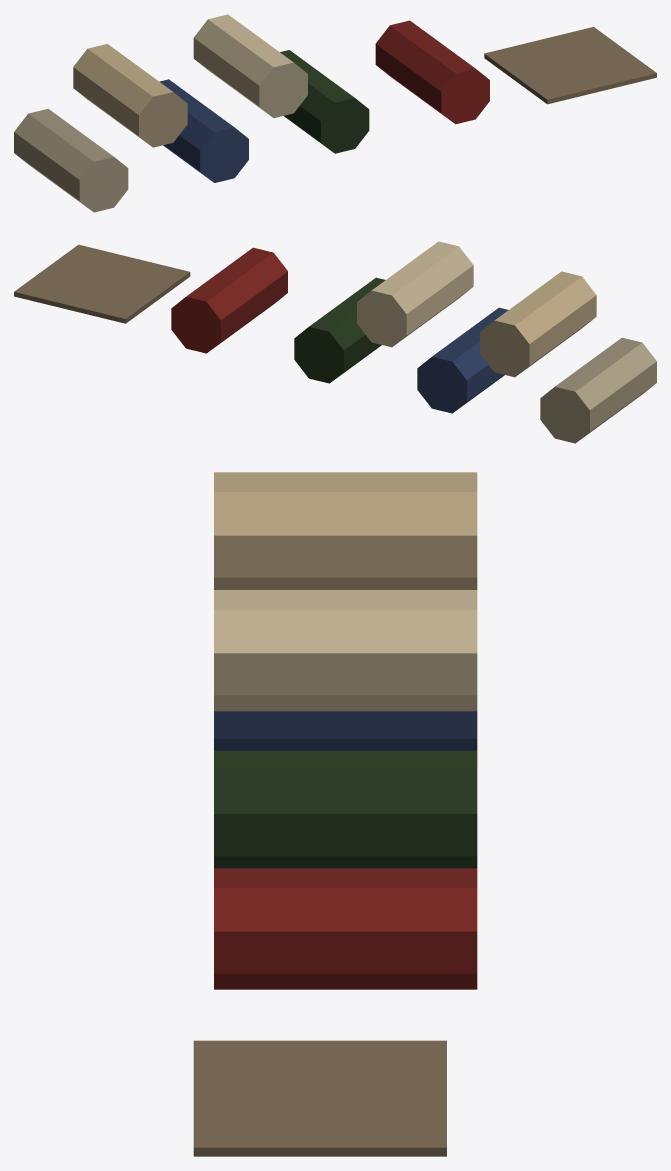
Rendered from walk_prop_goods_cloth.glb.
The picture shows the model from 3 angles, top to bottom: view 1: azimuth 30°, elevation 25°; view 2: azimuth 150°, elevation 25°; view 3: azimuth 270°, elevation 25°; orthographic projection. The views are drawn at different scales.
Parts seen in each view (by area): view 1: walk_prop_goods_cloth; view 2: walk_prop_goods_cloth; view 3: walk_prop_goods_cloth.
Part boxes in pixels (<box>): walk_prop_goods_cloth: <box>14,14,656,212</box>; walk_prop_goods_cloth: <box>14,241,656,443</box>; walk_prop_goods_cloth: <box>193,472,477,1156</box>.
Size of the model in its own units: 2.61 by 0.4417 by 0.56.
1 material, 1 textured.
